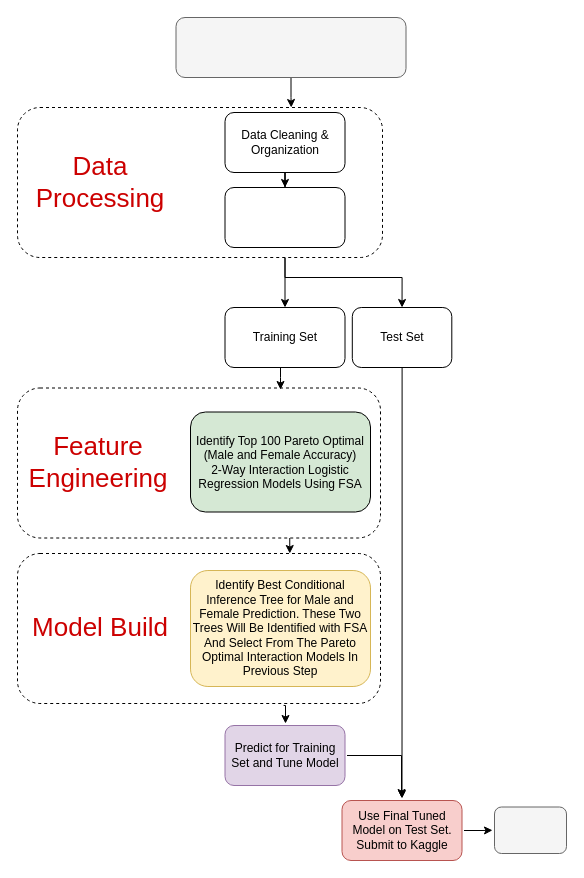
Some shapes in this 584 by 878 pixel diagram are drawn without their labels. The centre of each missing label's shape, as x and y in pixels:
82.3% Accuracy: point 530,830
Full Kaggle Titanic Dataset: point 290,47
Kaggle Feature Engineering: point 284,217
